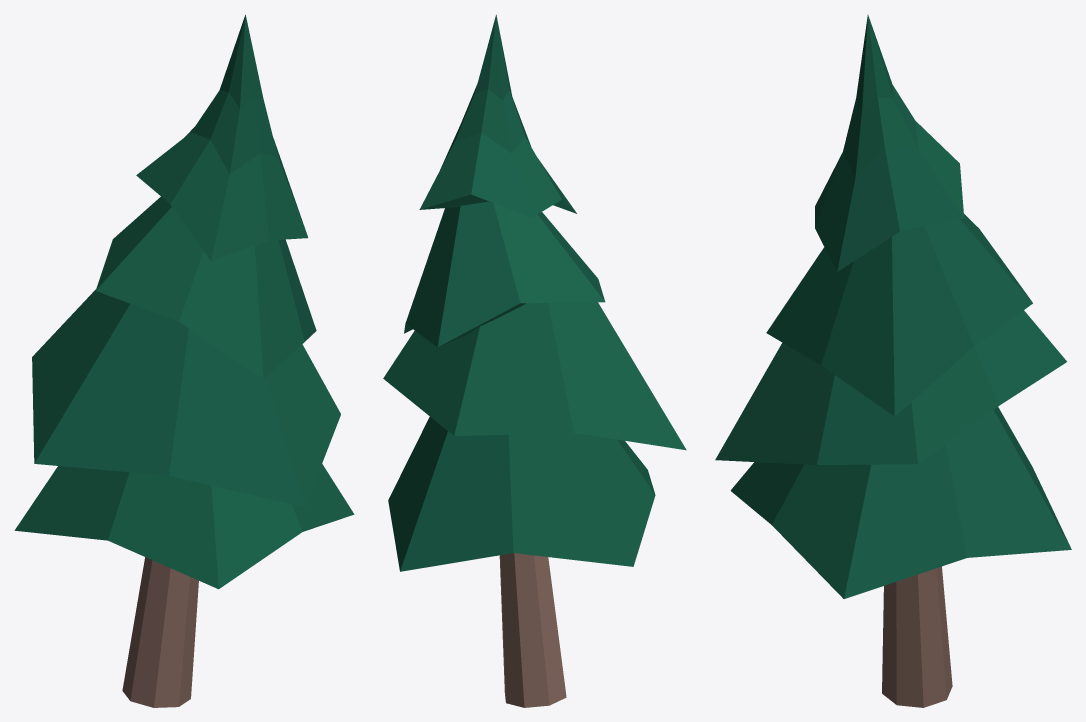
The model's file is Tree_073.glb.
3 views of the same model, side by side, from view 1: azimuth 30°, elevation 25°; view 2: azimuth 150°, elevation 25°; view 3: azimuth 270°, elevation 25° (orthographic). The views are drawn at different scales.
Parts seen in each view (by area): view 1: Tree_073; view 2: Tree_073; view 3: Tree_073.
Part boxes in pixels (x1=…): Tree_073: x1=14, y1=14, x2=354, y2=707; Tree_073: x1=383, y1=14, x2=686, y2=707; Tree_073: x1=715, y1=15, x2=1071, y2=707.
Size of the model in its own units: 2.34 by 5.06 by 2.3.
Materials: 1 (1 with a texture image).
